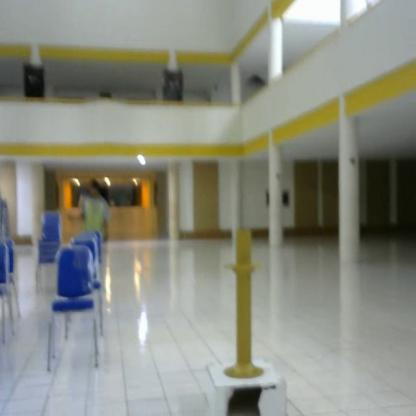pole: (216, 225, 273, 388)
